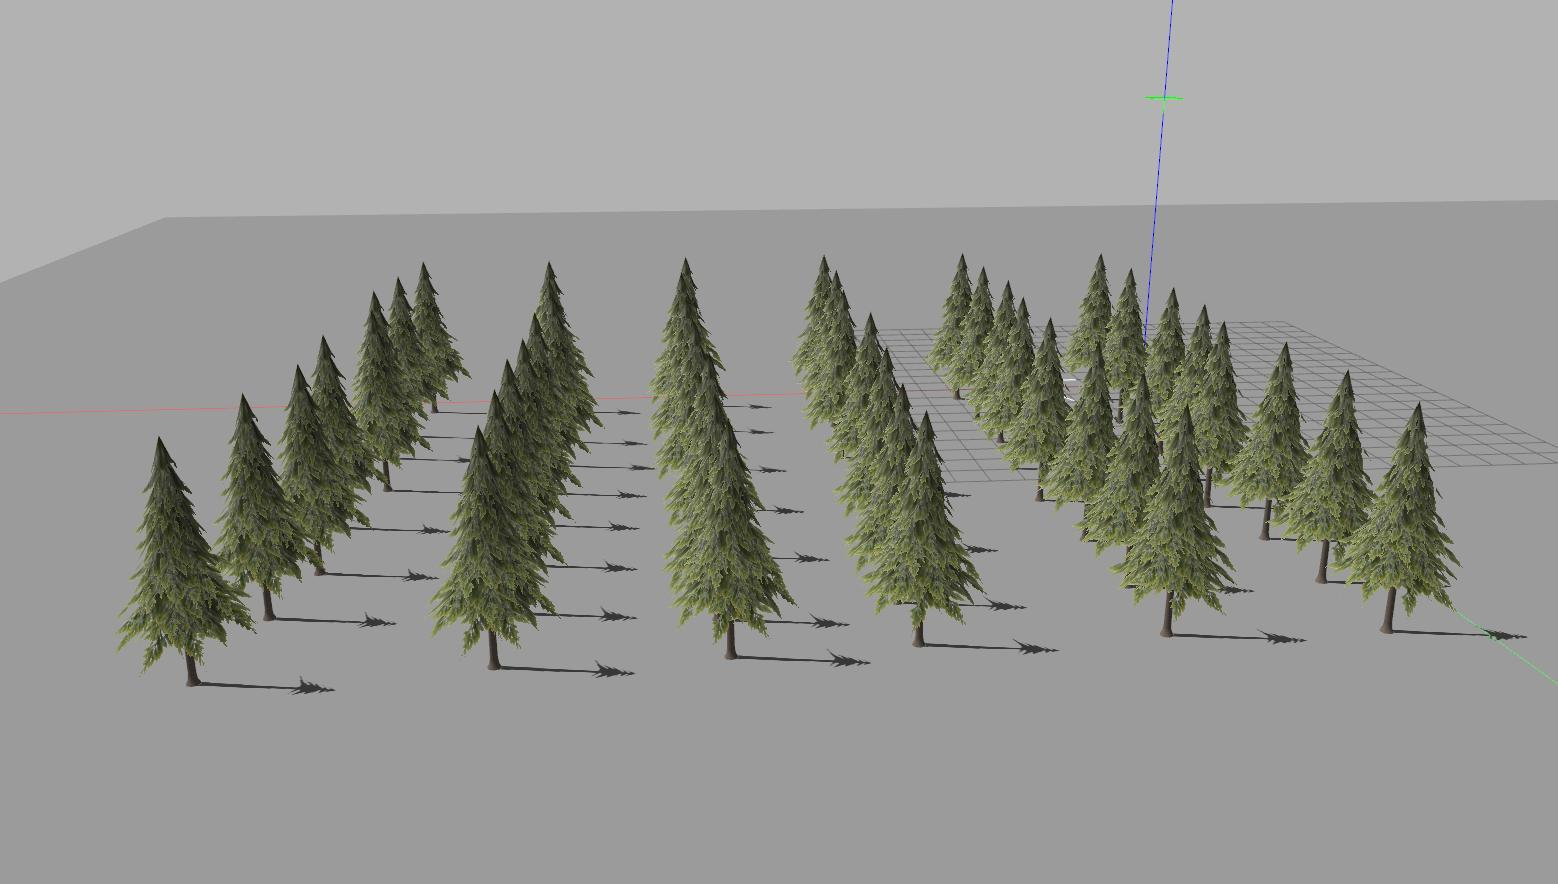tree_gazebo: (119, 438, 253, 688), (1339, 405, 1457, 635), (280, 338, 375, 575), (216, 396, 310, 620), (1278, 371, 1373, 584), (280, 368, 365, 575), (1229, 344, 1309, 542), (353, 295, 426, 488), (414, 264, 469, 409), (389, 280, 439, 407)
